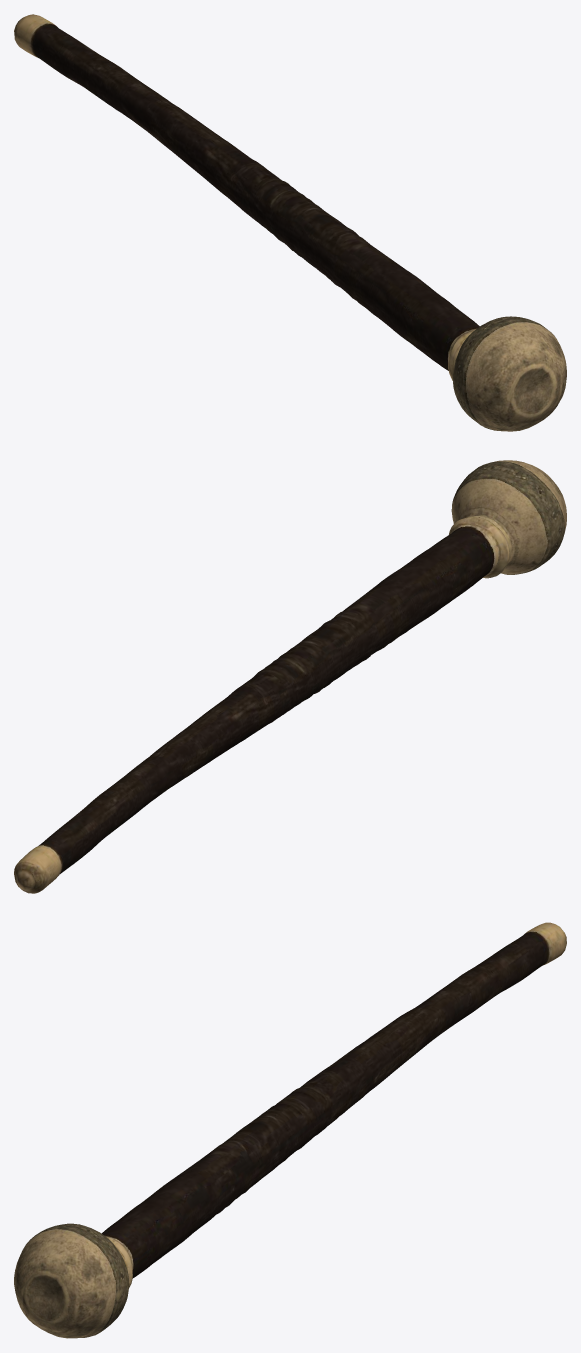
File: walking-cane.glb
3 renders of one model, top to bottom at view 1: azimuth 30°, elevation 25°; view 2: azimuth 150°, elevation 25°; view 3: azimuth 330°, elevation 25°, orthographic.
Visible parts, largest first — view 1: Mesh_0; view 2: Mesh_0; view 3: Mesh_0.
Boxes of the visible parts, <box> form: Mesh_0: <box>14,14,566,431</box>; Mesh_0: <box>14,460,566,893</box>; Mesh_0: <box>14,922,566,1338</box>.
Bounding box in the file's own units: 0.1035 × 0.1029 × 0.9.
1 material, 1 textured.
